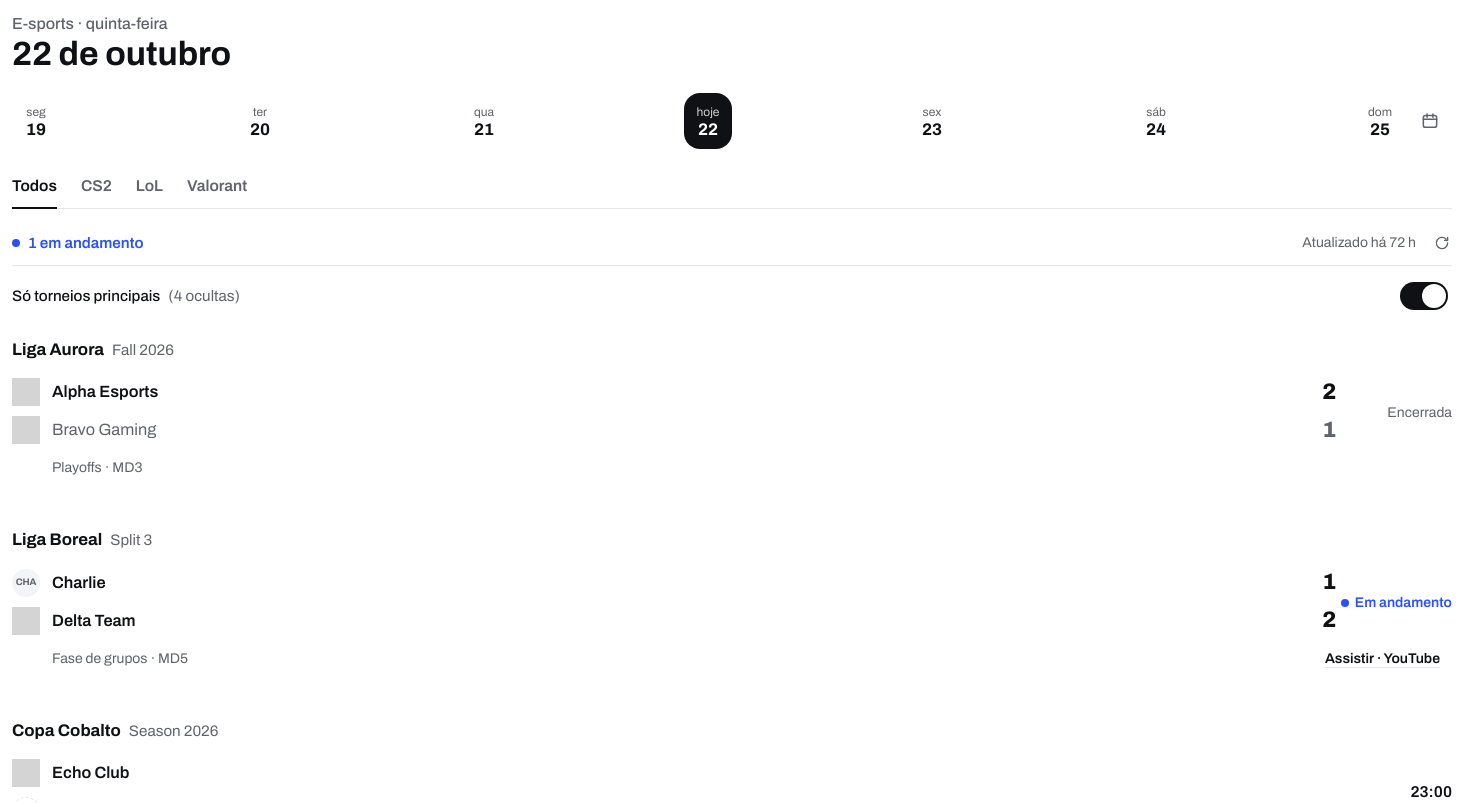
Test: EsportsView › trocar de jogo é instantâneo (filtra no navegador, sem nova busca)
Click the tab "LoL": (149,187) [136,165,163,209]
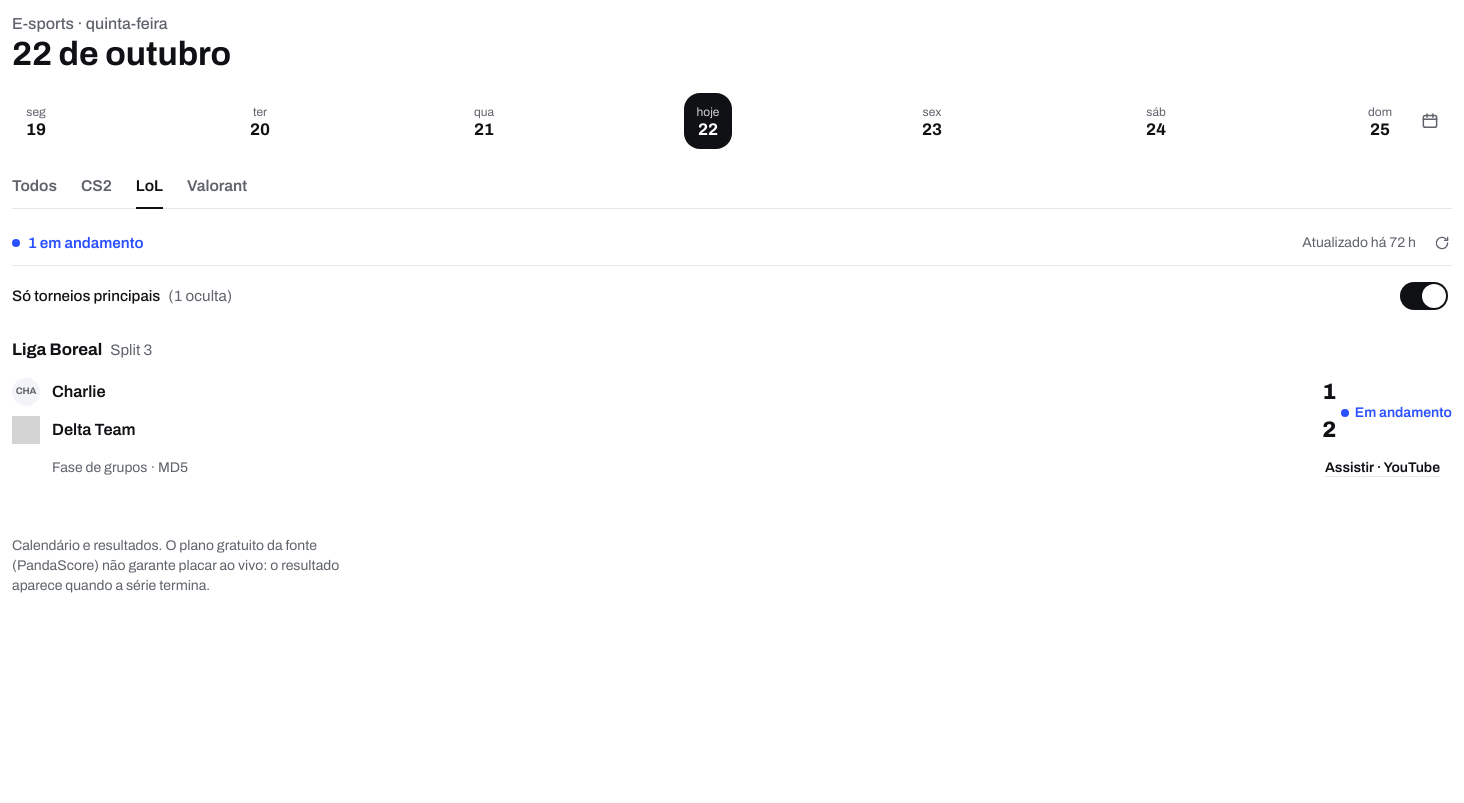
Expected: the tab "LoL" is selected, [136,165,163,209]
Click the tab "Valorant": (217,187) [187,165,247,209]
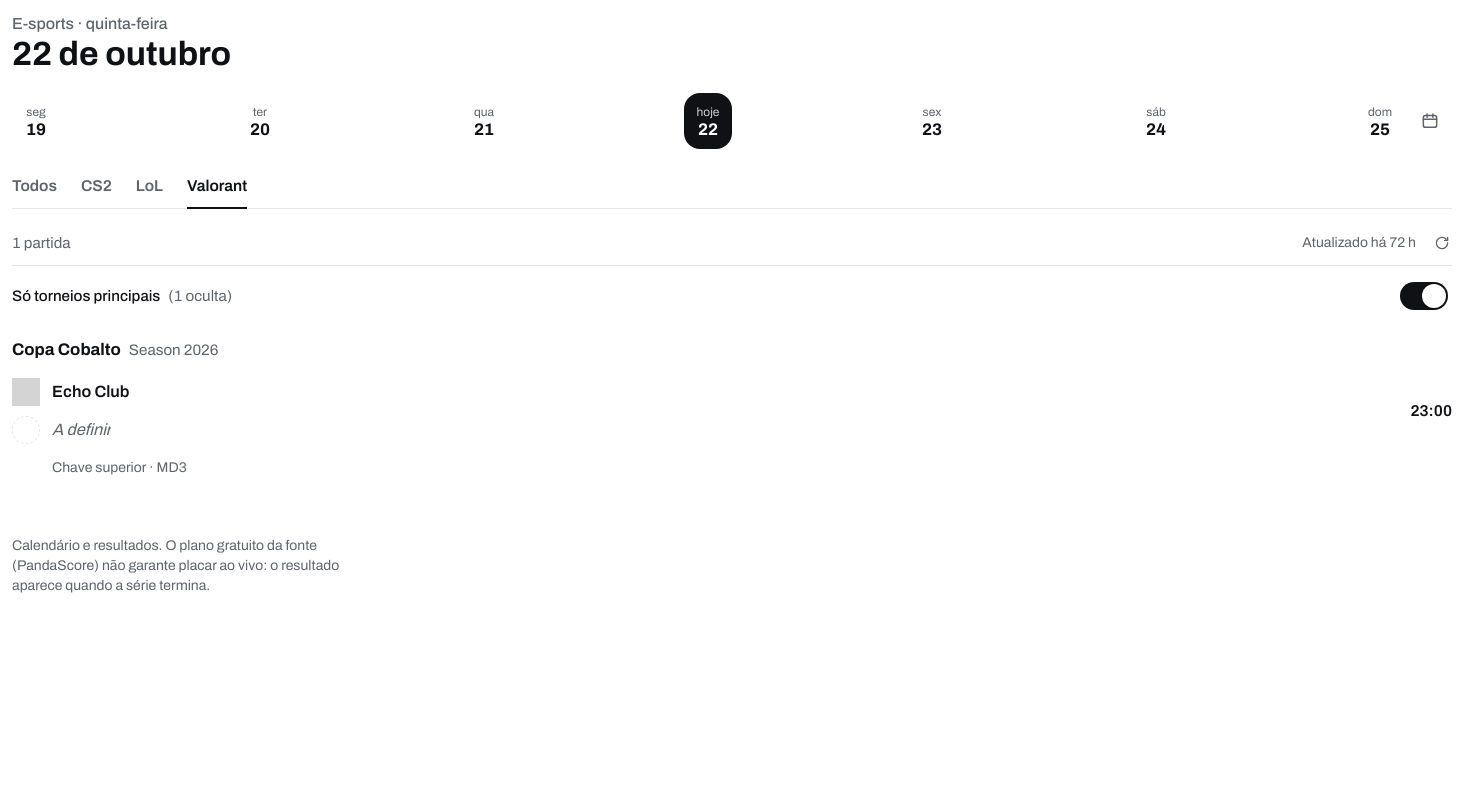
Expected: the text "Echo Club" is shown, [52,380,130,404]
